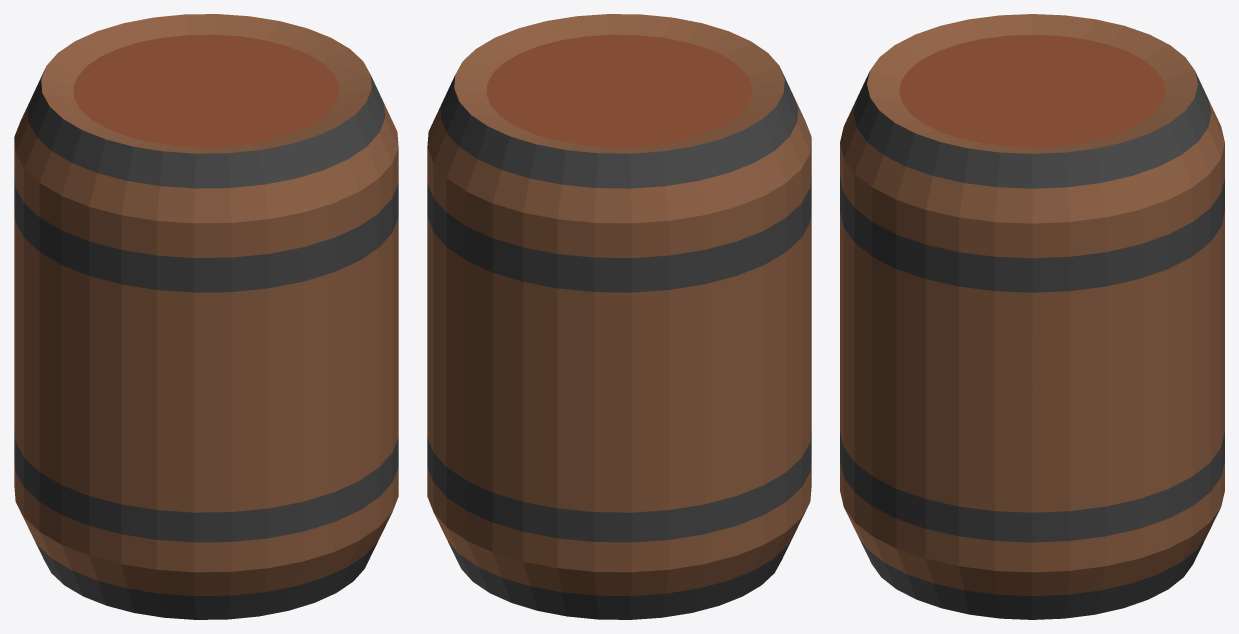
Rendered from Barrel.fbx.
The picture shows the model from 3 angles, left to right: view 1: azimuth 30°, elevation 25°; view 2: azimuth 150°, elevation 25°; view 3: azimuth 270°, elevation 25°; orthographic projection.
Visible parts, largest first — view 1: Barrel, BarrelInside, MetalRim1, MetalRim2, MetalRim3, MetalRim4; view 2: Barrel, BarrelInside, MetalRim1, MetalRim2, MetalRim3, MetalRim4; view 3: Barrel, BarrelInside, MetalRim1, MetalRim2, MetalRim3, MetalRim4.
Part boxes in pixels (left/top/right/bottom): Barrel: left=14, top=14, right=398, bottom=596; BarrelInside: left=73, top=34, right=339, bottom=147; MetalRim1: left=27, top=68, right=385, bottom=188; MetalRim2: left=14, top=174, right=398, bottom=292; MetalRim3: left=14, top=428, right=398, bottom=542; MetalRim4: left=30, top=532, right=377, bottom=619; Barrel: left=427, top=14, right=811, bottom=596; BarrelInside: left=486, top=34, right=752, bottom=147; MetalRim1: left=440, top=68, right=798, bottom=188; MetalRim2: left=427, top=174, right=811, bottom=292; MetalRim3: left=427, top=428, right=811, bottom=542; MetalRim4: left=448, top=532, right=795, bottom=619; Barrel: left=840, top=14, right=1224, bottom=596; BarrelInside: left=899, top=34, right=1165, bottom=147; MetalRim1: left=853, top=71, right=1211, bottom=188; MetalRim2: left=840, top=178, right=1224, bottom=292; MetalRim3: left=840, top=432, right=1224, bottom=542; MetalRim4: left=858, top=536, right=1206, bottom=619.
Size of the model in its own units: 200 by 268 by 200.
